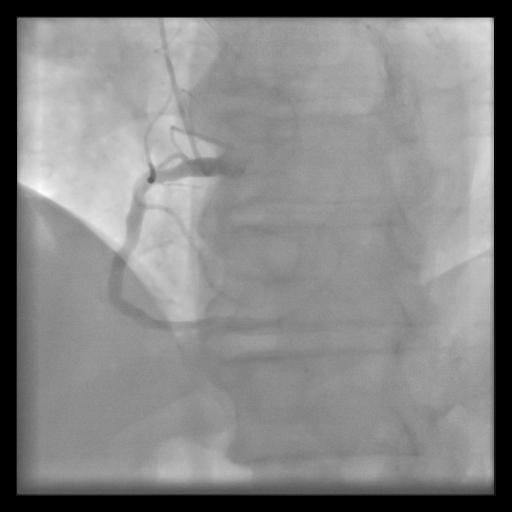Stenosis: (134, 163, 165, 189)
